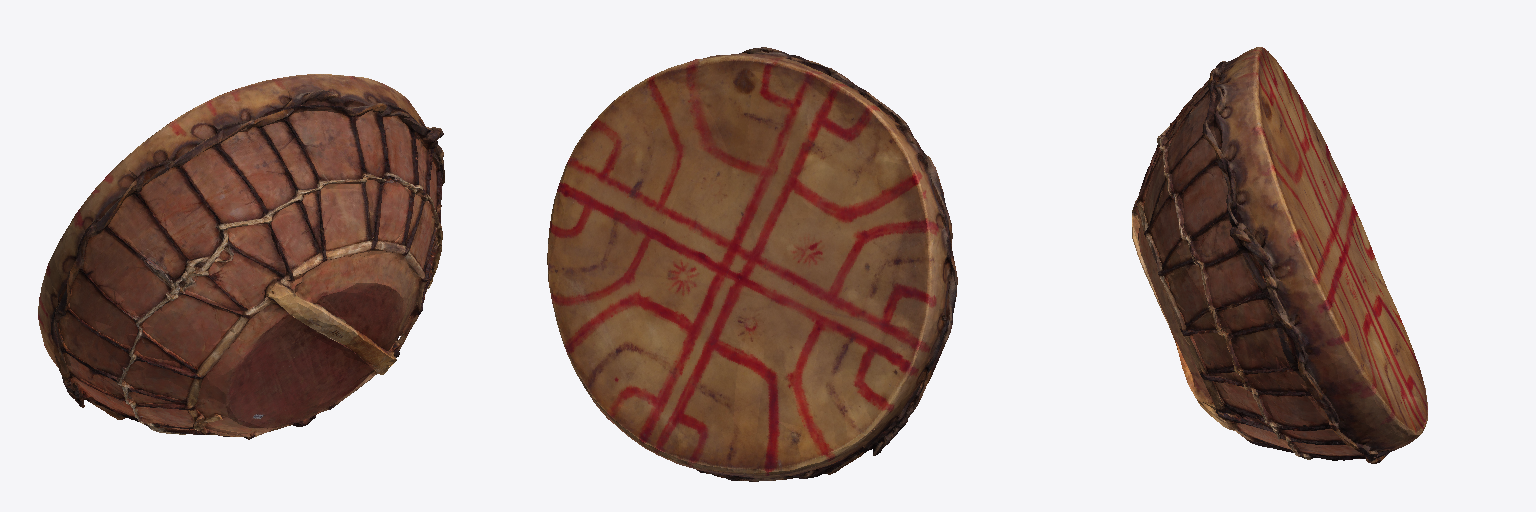
3 views of the same model, side by side, from view 1: azimuth 30°, elevation 25°; view 2: azimuth 150°, elevation 25°; view 3: azimuth 270°, elevation 25° (orthographic).
Parts seen in each view (by area): view 1: mmGroup0; view 2: mmGroup0; view 3: mmGroup0.
Part boxes in pixels (left/top/right/bottom): mmGroup0: left=38, top=74, right=444, bottom=439; mmGroup0: left=547, top=47, right=957, bottom=481; mmGroup0: left=1132, top=47, right=1427, bottom=463.
Bounding box in the file's own units: 391 × 360 × 261.
Materials: 1 (1 with a texture image).